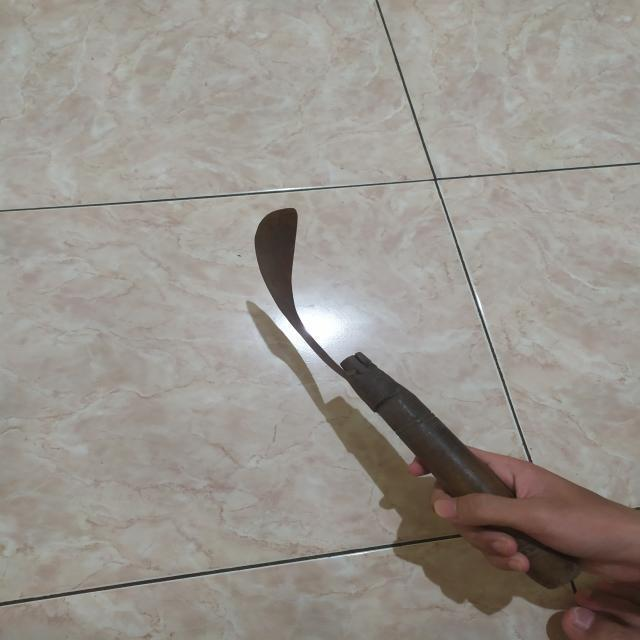Knife: (252, 208, 578, 587)
